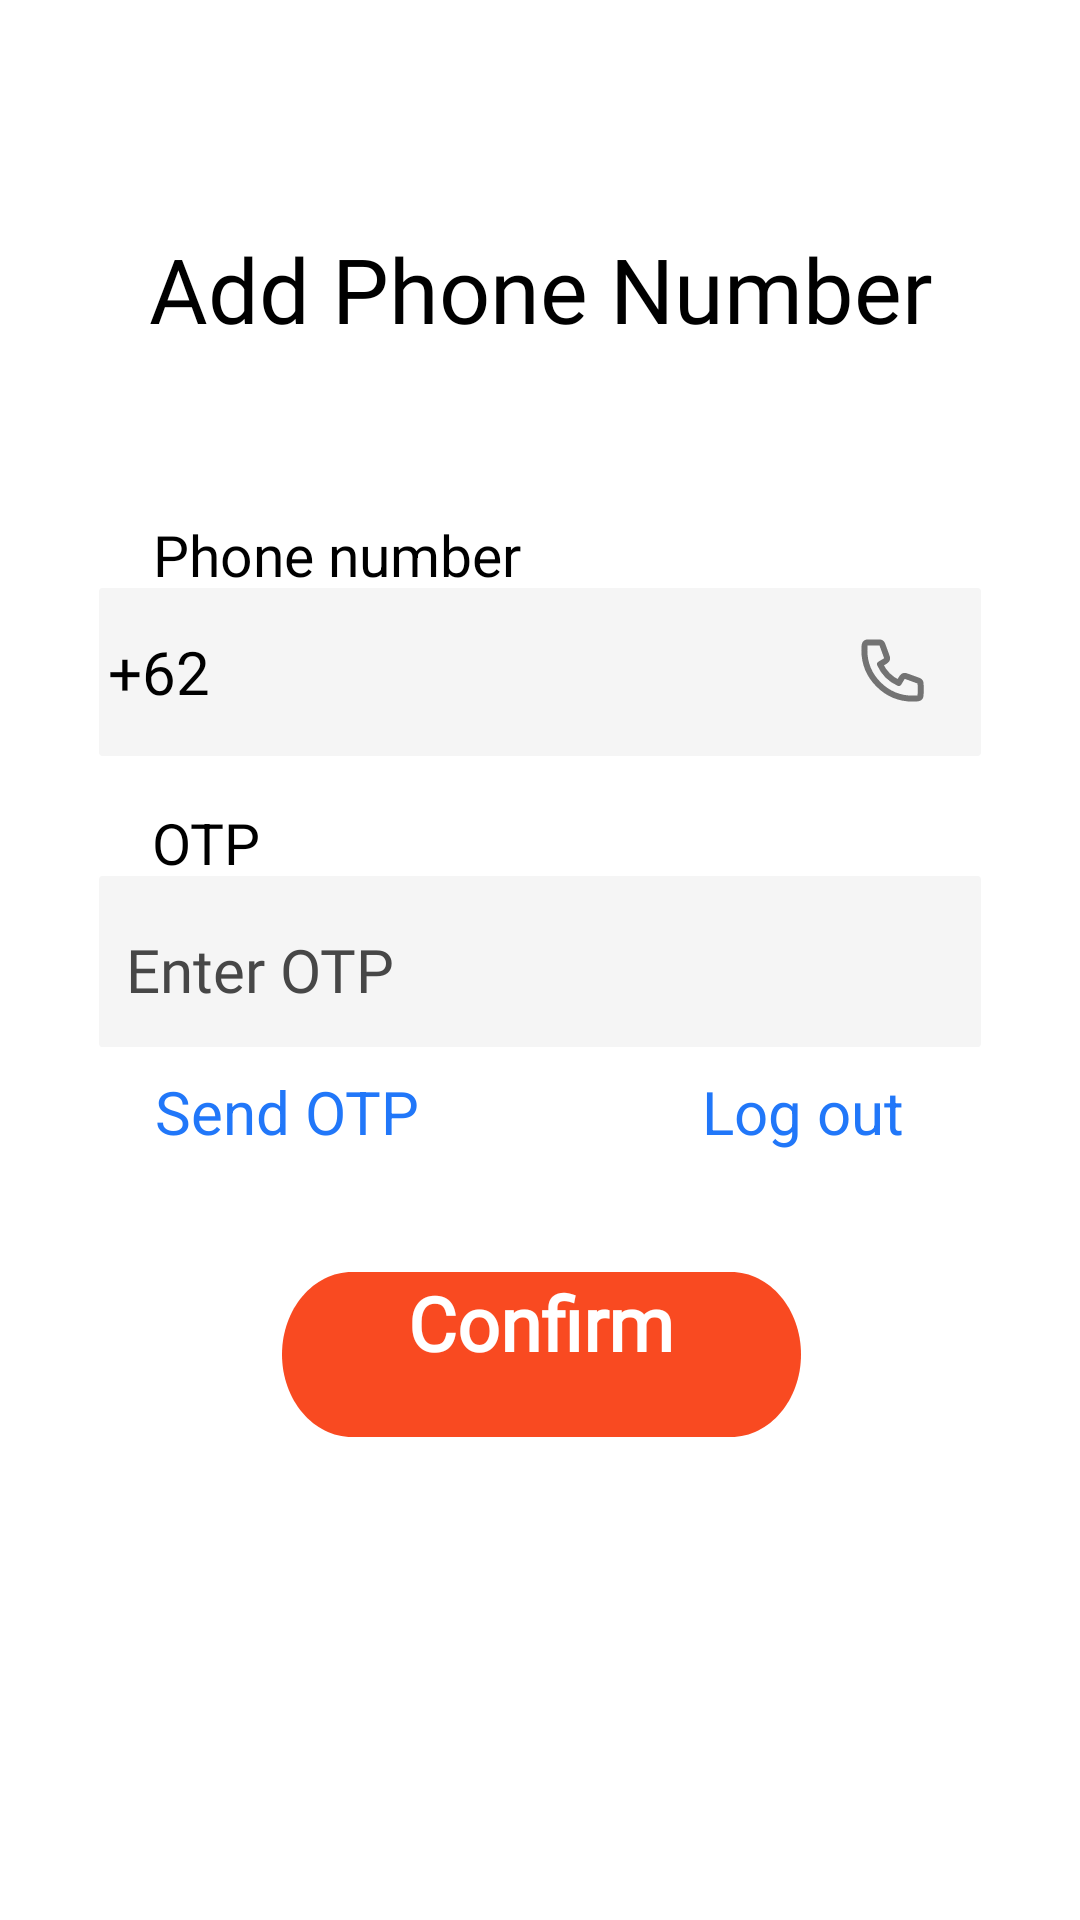

Screen size 1080*1920. Icon name, then its box in pixels as (x1, y1, x2, y2):
phone: (861, 639, 924, 702)
